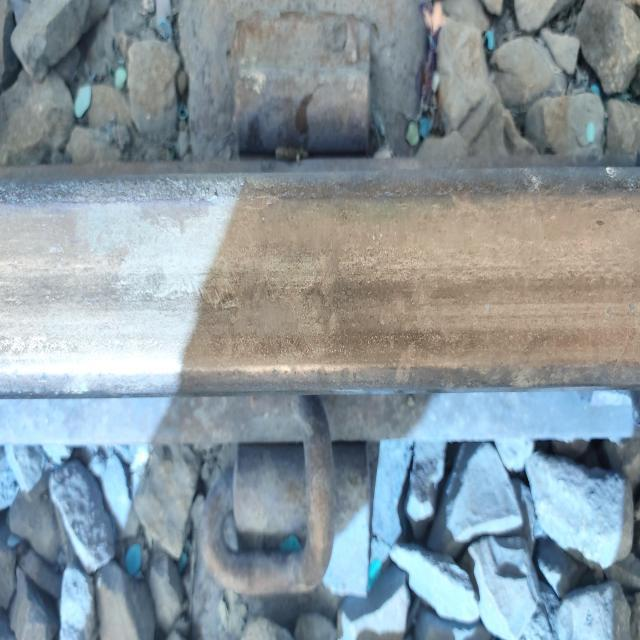Good Fasteners: (182, 380, 395, 640)
Missing Fastener: (198, 2, 398, 167)
